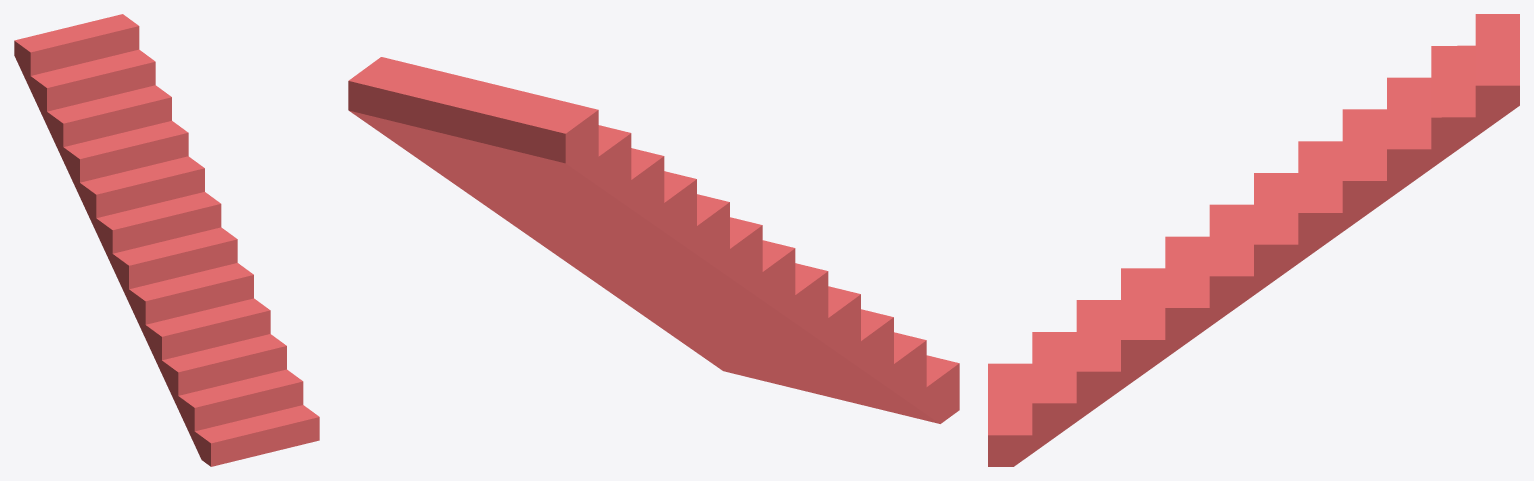
Rendered from Stairs_094.glb.
The picture shows the model from 3 angles, left to right: view 1: azimuth 30°, elevation 25°; view 2: azimuth 150°, elevation 25°; view 3: azimuth 270°, elevation 25°; orthographic projection. The views are drawn at different scales.
Visible parts, largest first — view 1: Stairs_094; view 2: Stairs_094; view 3: Stairs_094.
Boxes of the visible parts, x1,y1,x2,y2 form: Stairs_094: [14, 14, 319, 466]; Stairs_094: [348, 57, 959, 423]; Stairs_094: [988, 14, 1519, 466].
Bounding box in the file's own units: 1.62 × 4.02 × 5.08.
1 material, 1 textured.
